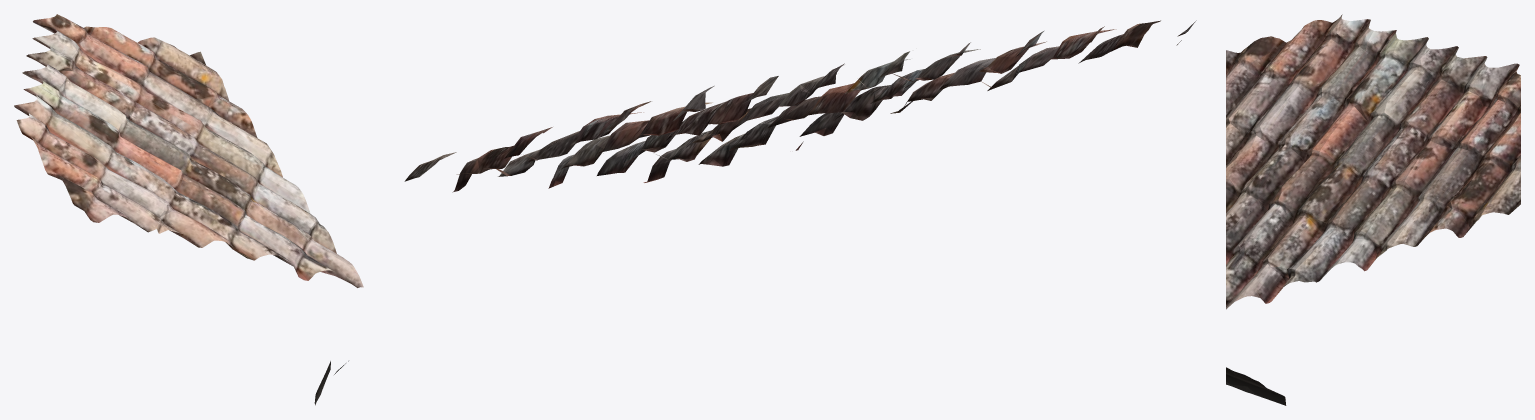
The picture shows the model from 3 angles, left to right: view 1: azimuth 30°, elevation 25°; view 2: azimuth 150°, elevation 25°; view 3: azimuth 270°, elevation 25°; orthographic projection. The views are drawn at different scales.
Size of the model in its own units: 1.67 by 1.67 by 1.67.
3 materials, 3 textured.
